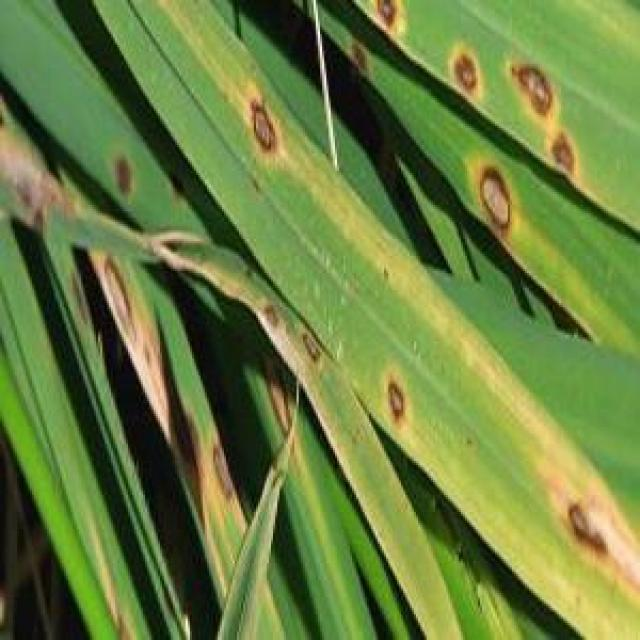brownspots: (100, 260, 169, 352), (258, 303, 324, 363), (552, 500, 628, 552), (472, 164, 532, 228), (506, 66, 568, 109), (109, 156, 160, 205), (194, 438, 241, 490), (442, 49, 492, 92), (376, 373, 422, 416), (243, 104, 288, 146), (540, 132, 594, 166), (371, 2, 408, 28)
